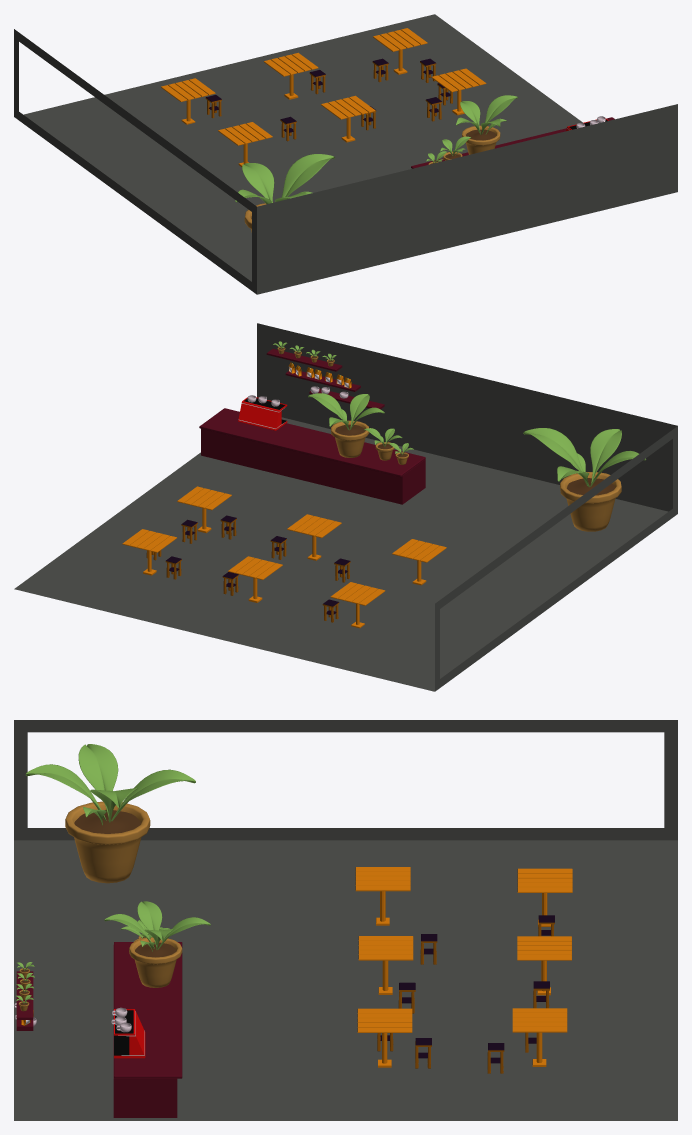
Rendered from CoffeeShop.glb.
The picture shows the model from 3 angles, top to bottom: view 1: azimuth 30°, elevation 25°; view 2: azimuth 150°, elevation 25°; view 3: azimuth 270°, elevation 25°; orthographic projection. The views are drawn at different scales.
Parts seen in each view (by area): view 1: Room, Gigantic plant, big plant, Table.004, Table.001, Table.005, Table.003, Table, Table.002; view 2: Room, Counter, Gigantic plant, big plant, CoffeeMachine, Table.004, Table, Table.001, Table.002, Table.005, Table.003; view 3: Room, Counter, Gigantic plant, big plant, Table.001, Table.005, Table, Table.002, Table.003, Table.004, CoffeeMachine.
Boxes of the visible parts, x1=… form: Room: x1=14, y1=14, x2=677, y2=294; Gigantic plant: x1=235, y1=154, x2=335, y2=232; big plant: x1=456, y1=95, x2=518, y2=154; Table.004: x1=263, y1=52, x2=318, y2=99; Table.001: x1=321, y1=95, x2=375, y2=142; Table.005: x1=373, y1=28, x2=427, y2=74; Table.003: x1=161, y1=78, x2=215, y2=124; Table: x1=431, y1=68, x2=486, y2=115; Table.002: x1=218, y1=122, x2=272, y2=166; Room: x1=14, y1=323, x2=677, y2=691; Counter: x1=199, y1=408, x2=425, y2=504; Gigantic plant: x1=523, y1=428, x2=646, y2=531; big plant: x1=308, y1=393, x2=384, y2=457; CoffeeMachine: x1=238, y1=397, x2=287, y2=430; Table.004: x1=228, y1=556, x2=282, y2=602; Table: x1=177, y1=486, x2=231, y2=533; Table.001: x1=287, y1=514, x2=341, y2=560; Table.002: x1=392, y1=539, x2=446, y2=585; Table.005: x1=122, y1=529, x2=176, y2=575; Table.003: x1=330, y1=582, x2=385, y2=628; Room: x1=14, y1=720, x2=677, y2=1120; Counter: x1=113, y1=942, x2=182, y2=1117; Gigantic plant: x1=25, y1=744, x2=195, y2=883; big plant: x1=104, y1=901, x2=210, y2=987; Table.001: x1=358, y1=936, x2=413, y2=994; Table.005: x1=512, y1=1008, x2=567, y2=1066; Table: x1=357, y1=1008, x2=412, y2=1067; Table.002: x1=355, y1=867, x2=410, y2=925; Table.003: x1=517, y1=868, x2=572, y2=926; Table.004: x1=517, y1=936, x2=571, y2=995; CoffeeMachine: x1=114, y1=1009, x2=145, y2=1058.
Bounding box in the file's own units: 12.11 × 2.45 × 12.11.
